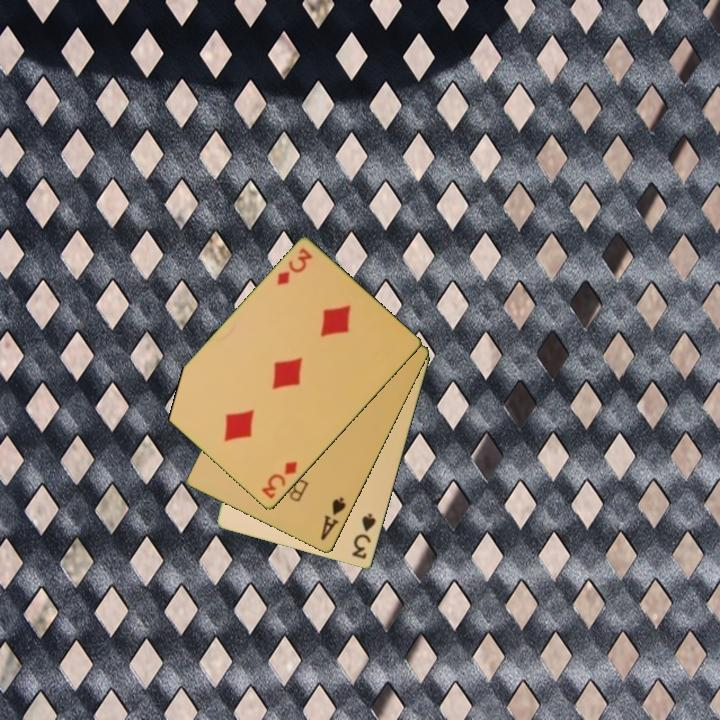3d: (258, 458, 300, 503), (274, 245, 316, 289)
3s: (349, 510, 379, 562)
As: (317, 494, 349, 544)
